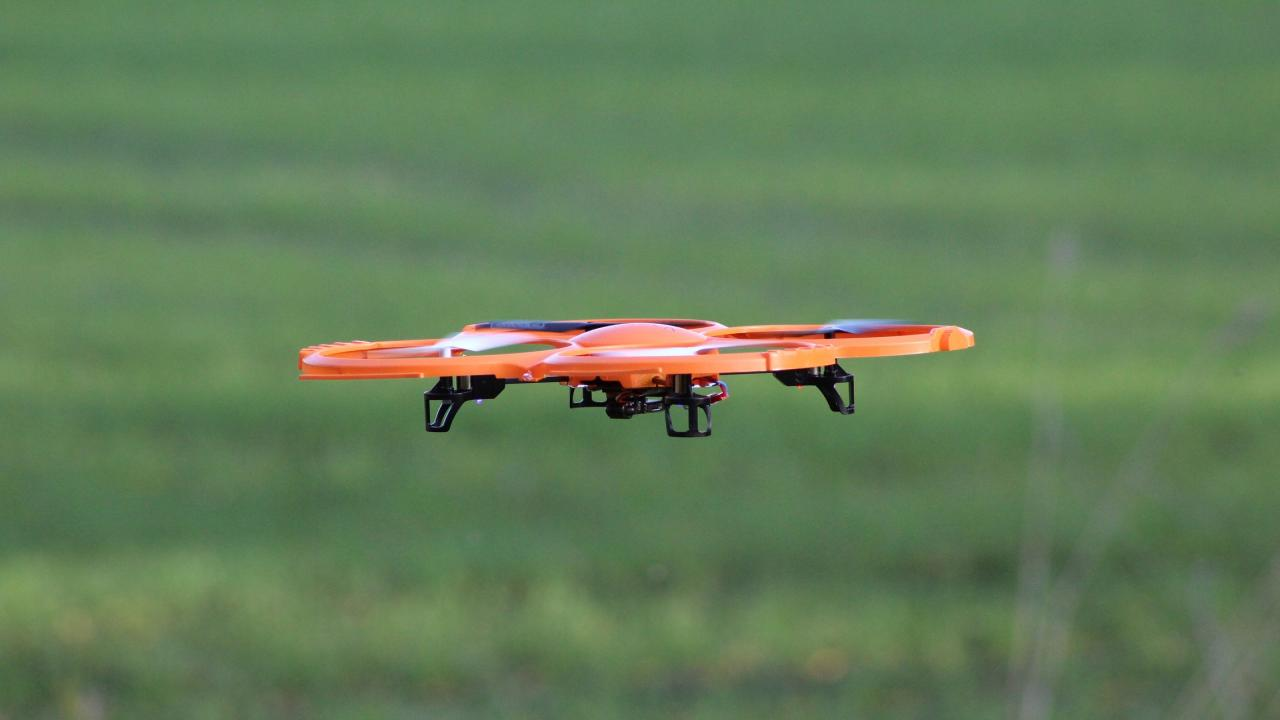Drone: (268, 293, 1000, 446)
